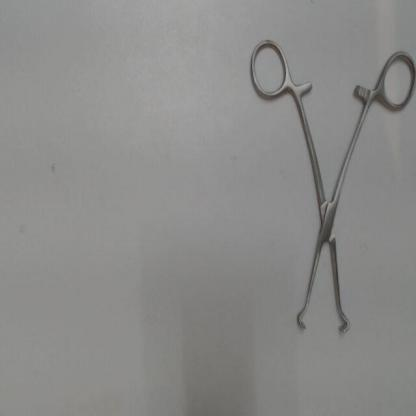Babcock Tissue Forceps: (240, 36, 416, 344)
